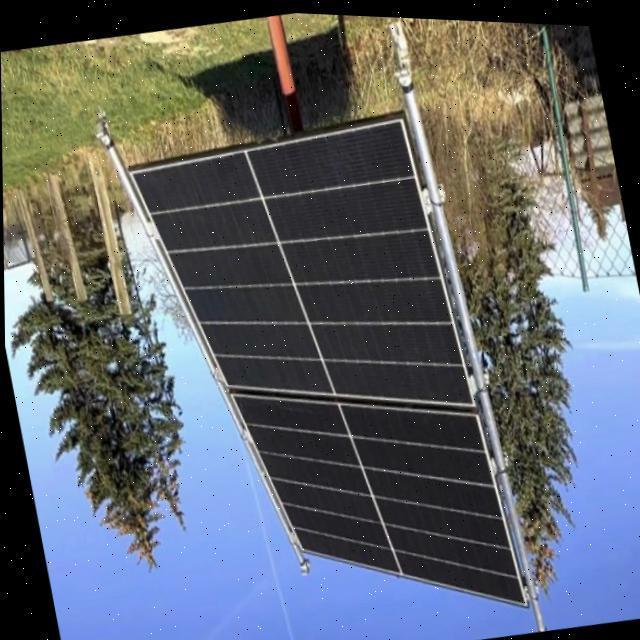Normal Solar Panel: (124, 97, 526, 640)
